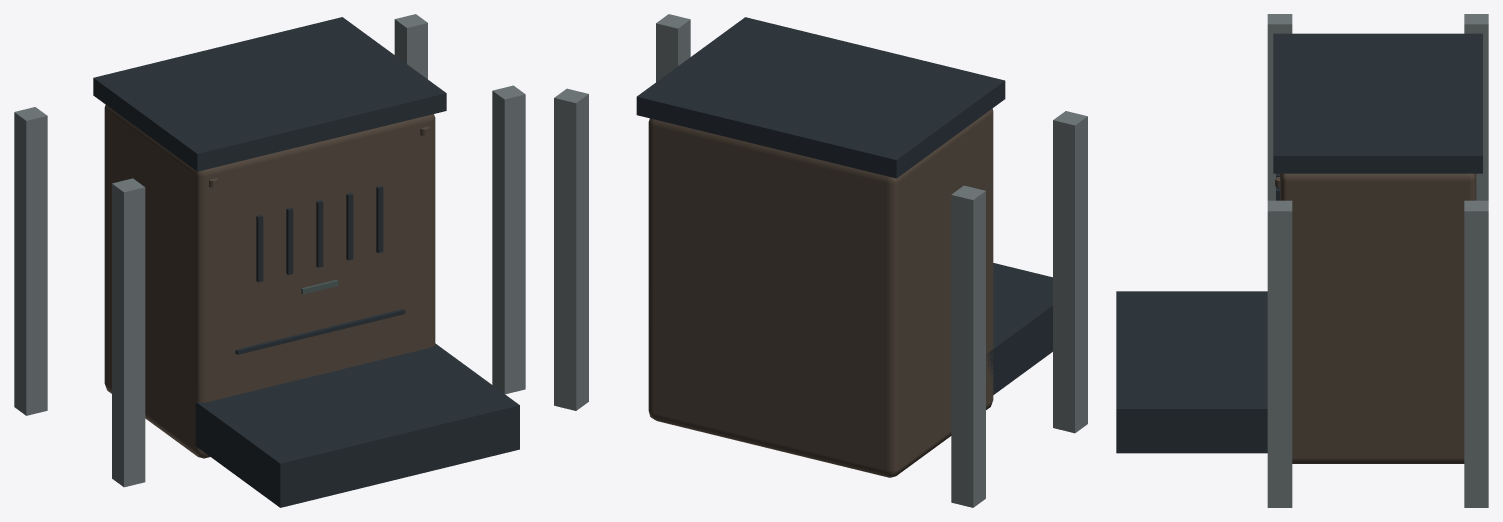
Rendered from forge-3.glb.
3 renders of one model, left to right at view 1: azimuth 30°, elevation 25°; view 2: azimuth 150°, elevation 25°; view 3: azimuth 270°, elevation 25°, orthographic. The views are drawn at different scales.
Visible parts, largest first — view 1: forge/2/KR-230-3; view 2: forge/2/KR-230-3; view 3: forge/2/KR-230-3.
Part boxes in pixels (x1,y1,x2,y2): forge/2/KR-230-3: [14, 14, 525, 507]; forge/2/KR-230-3: [554, 14, 1087, 507]; forge/2/KR-230-3: [1116, 14, 1488, 507].
Size of the model in its own units: 2.85 by 2.12 by 2.28.
